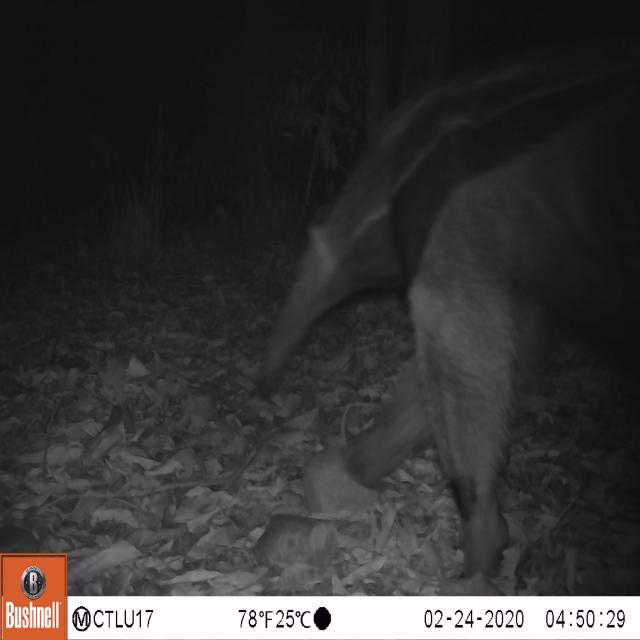Giant Anteater: (252, 32, 640, 576)
